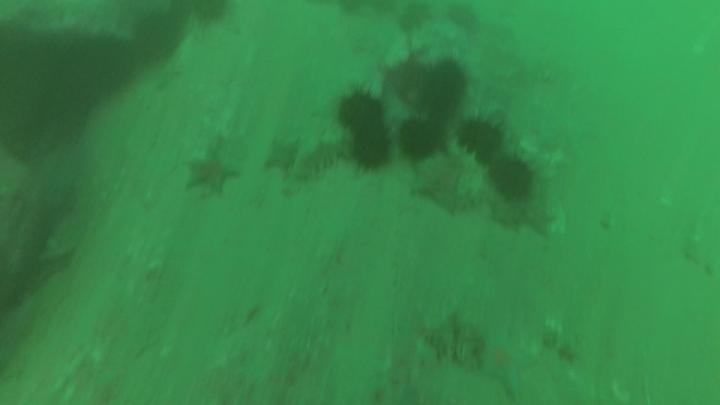echinus: (419, 61, 469, 113), (133, 15, 181, 58), (340, 92, 383, 130), (398, 119, 441, 156), (461, 118, 502, 155), (491, 161, 533, 197), (357, 127, 391, 168)
holothurian: (430, 327, 481, 364), (303, 141, 352, 178)
starfish: (483, 337, 537, 403), (414, 163, 463, 211), (185, 154, 240, 192), (265, 138, 299, 173), (527, 204, 556, 237), (491, 201, 525, 223)
